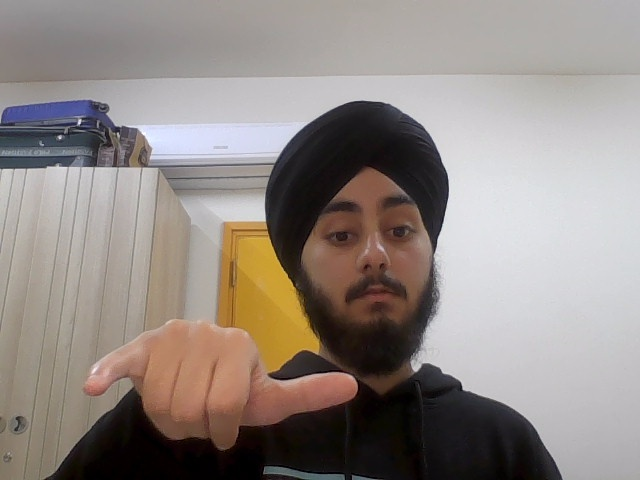Same: (78, 311, 362, 451)
